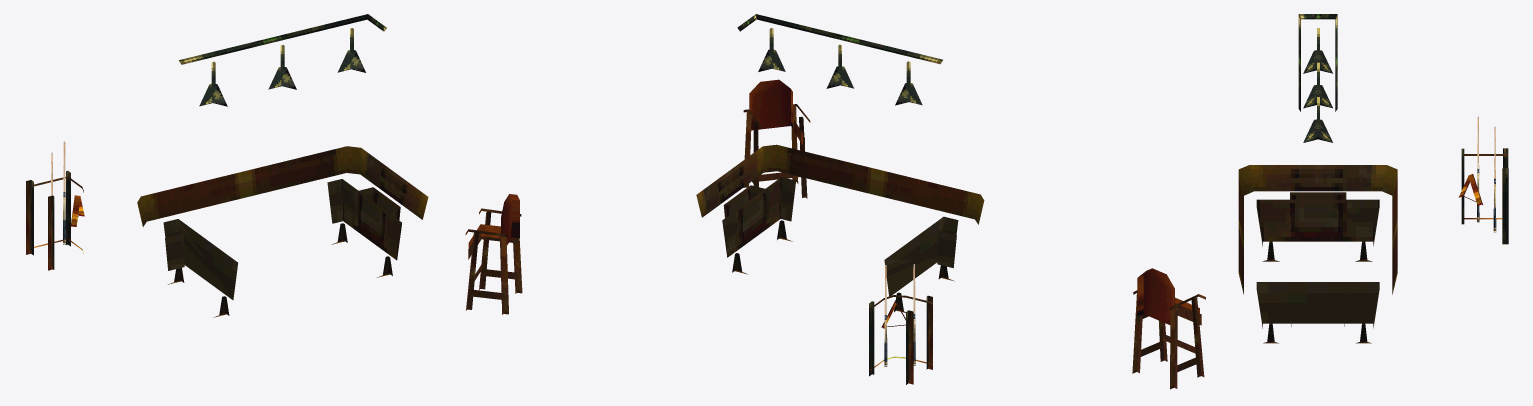
File: ps2_save-icons_coolshot.glb
3 renders of one model, left to right at view 1: azimuth 30°, elevation 25°; view 2: azimuth 150°, elevation 25°; view 3: azimuth 270°, elevation 25°, orthographic. The views are drawn at different scales.
Visible parts, largest first — view 1: ball.ico; view 2: ball.ico; view 3: ball.ico.
Part boxes in pixels (x1=…): ball.ico: x1=26, y1=14, x2=522, y2=317; ball.ico: x1=696, y1=14, x2=984, y2=384; ball.ico: x1=1132, y1=14, x2=1508, y2=389.
Bounding box in the file's own units: 3.67 × 2.45 × 3.53.
1 material, 1 textured.
